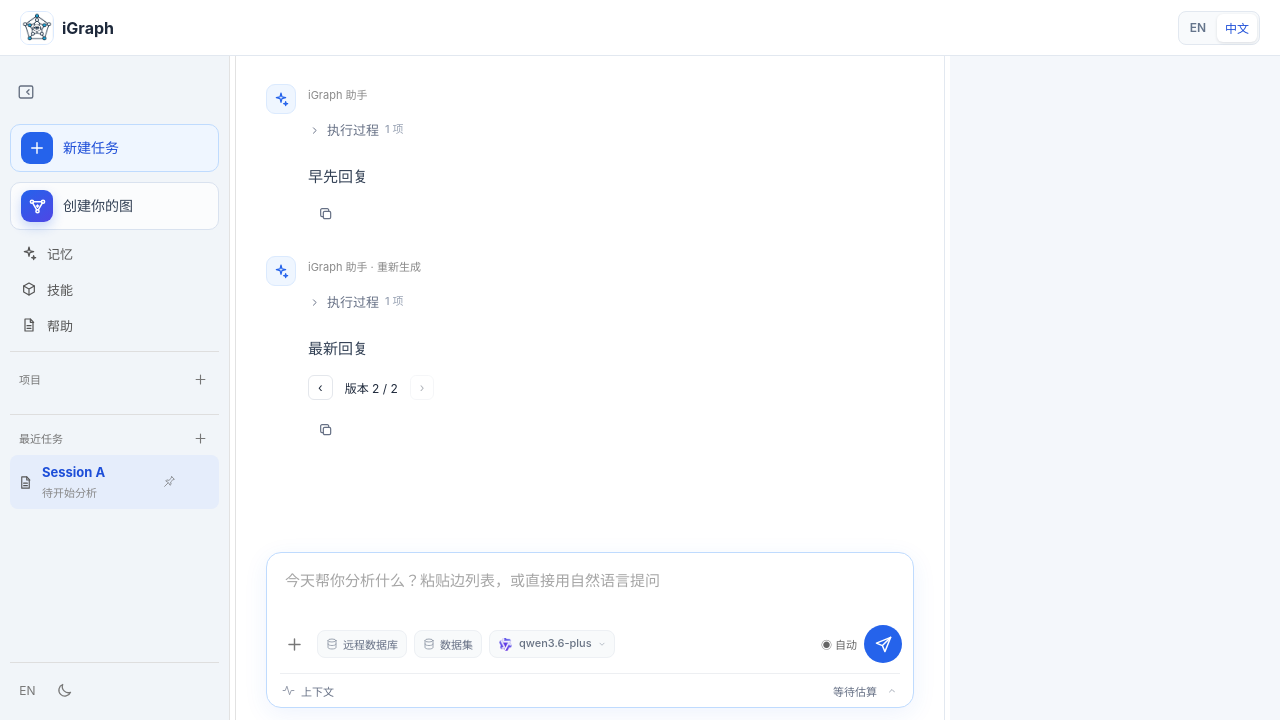
it: retains process events and regeneration links when loading history
The image size is (1280, 720).
Expected: the text box with placeholder "今天帮你分析什么？粘贴边列表，或直接用自然语言提问" is shown, x1=267 y1=553 x2=913 y2=625
Click the button named "上一个回答版本" at (320, 387), box x1=308 y1=374 x2=333 y2=400
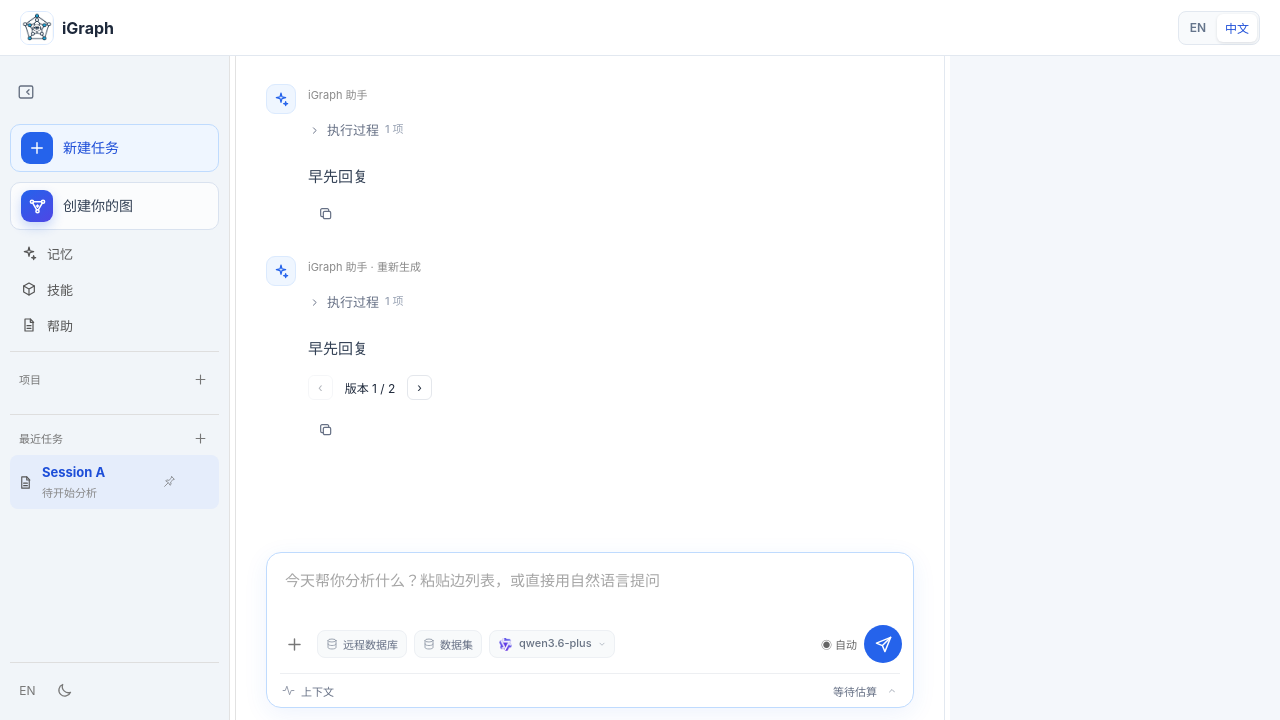
Result: the element with class "message-content" below "iGraph 助手 · 重新生成" reads "早先回复" at x1=308 y1=339 x2=368 y2=358
